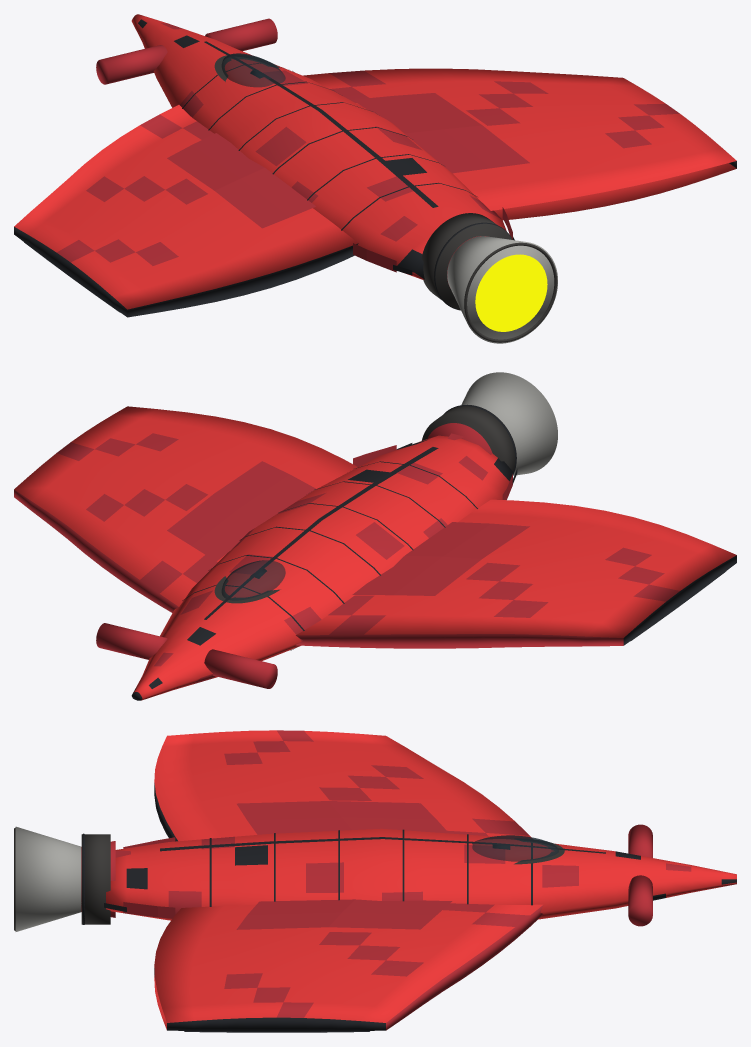
The model's file is Ship_ManraRay_892974.glb.
The picture shows the model from 3 angles, top to bottom: view 1: azimuth 30°, elevation 25°; view 2: azimuth 150°, elevation 25°; view 3: azimuth 270°, elevation 25°; orthographic projection. The views are drawn at different scales.
Visible parts, largest first — view 1: Wing_Left_MantaAerofoil, Fuselage_CentralRayHull_FacetedAeroBody, Wing_Right_MantaAerofoil, PaintShadowPanel_Right_InnerArmorBlock_Top, PaintShadowPanel_Left_InnerArmorBlock_Top, EngineBell_CentralMainRocketNozzle, EngineEmitter, EngineMount_AftCentralTailBlock, NoseHammer_Left_ForwardSensorLobe, CanopyGlass_LowInsetMantaDome, NoseHammer_Right_ForwardSensorLobe, DorsalKeel_DarkCenterSpine (+1 smaller); view 2: Wing_Left_MantaAerofoil, Fuselage_CentralRayHull_FacetedAeroBody, Wing_Right_MantaAerofoil, PaintShadowPanel_Right_InnerArmorBlock_Top, PaintShadowPanel_Left_InnerArmorBlock_Top, EngineBell_CentralMainRocketNozzle, EngineMount_AftCentralTailBlock, CanopyGlass_LowInsetMantaDome, NoseHammer_Left_ForwardSensorLobe, NoseHammer_Right_ForwardSensorLobe, DorsalKeel_DarkCenterSpine, EngineShroud_AftBlendedRocketFairing; view 3: Fuselage_CentralRayHull_FacetedAeroBody, Wing_Right_MantaAerofoil, Wing_Left_MantaAerofoil, EngineBell_CentralMainRocketNozzle, PaintShadowPanel_Left_InnerArmorBlock_Top, PaintShadowPanel_Right_InnerArmorBlock_Top, EngineMount_AftCentralTailBlock, CanopyGlass_LowInsetMantaDome, NoseHammer_Right_ForwardSensorLobe, DorsalKeel_DarkCenterSpine, NoseHammer_Left_ForwardSensorLobe, EngineShoulder_Right_AftCoolingPanel.
Part boxes in pixels (x1,y1,x2,y2): Wing_Left_MantaAerofoil: (14,105,358,317); Fuselage_CentralRayHull_FacetedAeroBody: (131,14,506,279); Wing_Right_MantaAerofoil: (303,68,736,220); PaintShadowPanel_Right_InnerArmorBlock_Top: (352,93,529,173); PaintShadowPanel_Left_InnerArmorBlock_Top: (167,133,315,228); EngineBell_CentralMainRocketNozzle: (447,236,557,343); EngineEmitter: (475,254,547,331); EngineMount_AftCentralTailBlock: (421,213,512,310); NoseHammer_Left_ForwardSensorLobe: (96,45,167,84); CanopyGlass_LowInsetMantaDome: (221,53,285,87); NoseHammer_Right_ForwardSensorLobe: (205,18,277,51); DorsalKeel_DarkCenterSpine: (204,41,438,207); Wing_Left_MantaAerofoil: (295,499,736,648); Fuselage_CentralRayHull_FacetedAeroBody: (131,435,512,700); Wing_Right_MantaAerofoil: (14,406,357,612); PaintShadowPanel_Right_InnerArmorBlock_Top: (167,461,315,561); PaintShadowPanel_Left_InnerArmorBlock_Top: (352,522,529,595); EngineBell_CentralMainRocketNozzle: (461,372,557,475); EngineMount_AftCentralTailBlock: (421,404,516,471); CanopyGlass_LowInsetMantaDome: (221,560,285,600); NoseHammer_Left_ForwardSensorLobe: (204,649,277,688); NoseHammer_Right_ForwardSensorLobe: (96,623,167,659); DorsalKeel_DarkCenterSpine: (204,447,438,619); EngineShroud_AftBlendedRocketFairing: (427,423,492,454); Fuselage_CentralRayHull_FacetedAeroBody: (106,828,736,920); Wing_Right_MantaAerofoil: (154,903,543,1031); Wing_Left_MantaAerofoil: (154,730,531,841); EngineBell_CentralMainRocketNozzle: (15,826,81,931); PaintShadowPanel_Left_InnerArmorBlock_Top: (237,801,448,834); PaintShadowPanel_Right_InnerArmorBlock_Top: (236,899,452,929); EngineMount_AftCentralTailBlock: (81,834,110,924); CanopyGlass_LowInsetMantaDome: (472,835,558,861); NoseHammer_Right_ForwardSensorLobe: (628,875,652,926); DorsalKeel_DarkCenterSpine: (160,837,605,853); NoseHammer_Left_ForwardSensorLobe: (628,824,652,857); EngineShoulder_Right_AftCoolingPanel: (123,902,175,918).
Bounding box in the file's own units: 7.25 × 1.13 × 7.72.
